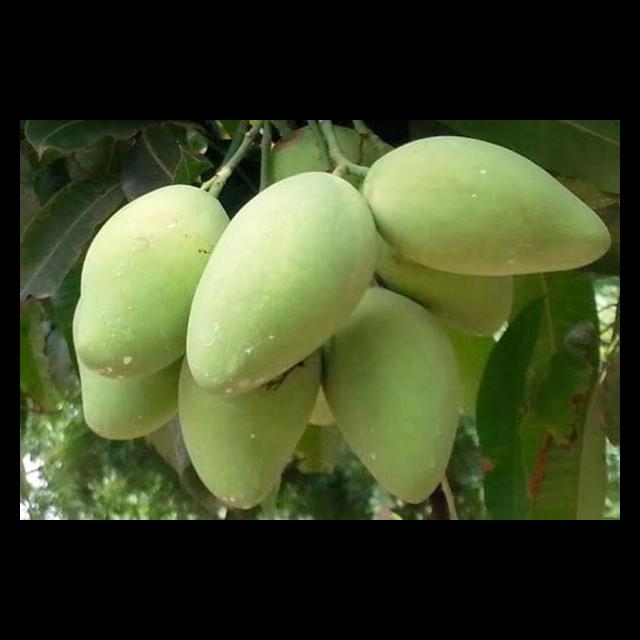xoai: (184, 171, 378, 397), (358, 134, 611, 275), (321, 284, 464, 504), (79, 184, 231, 380)
